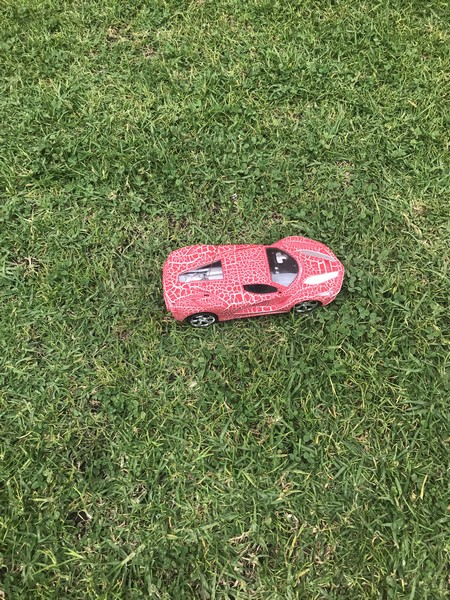RC: (160, 235, 346, 328)
